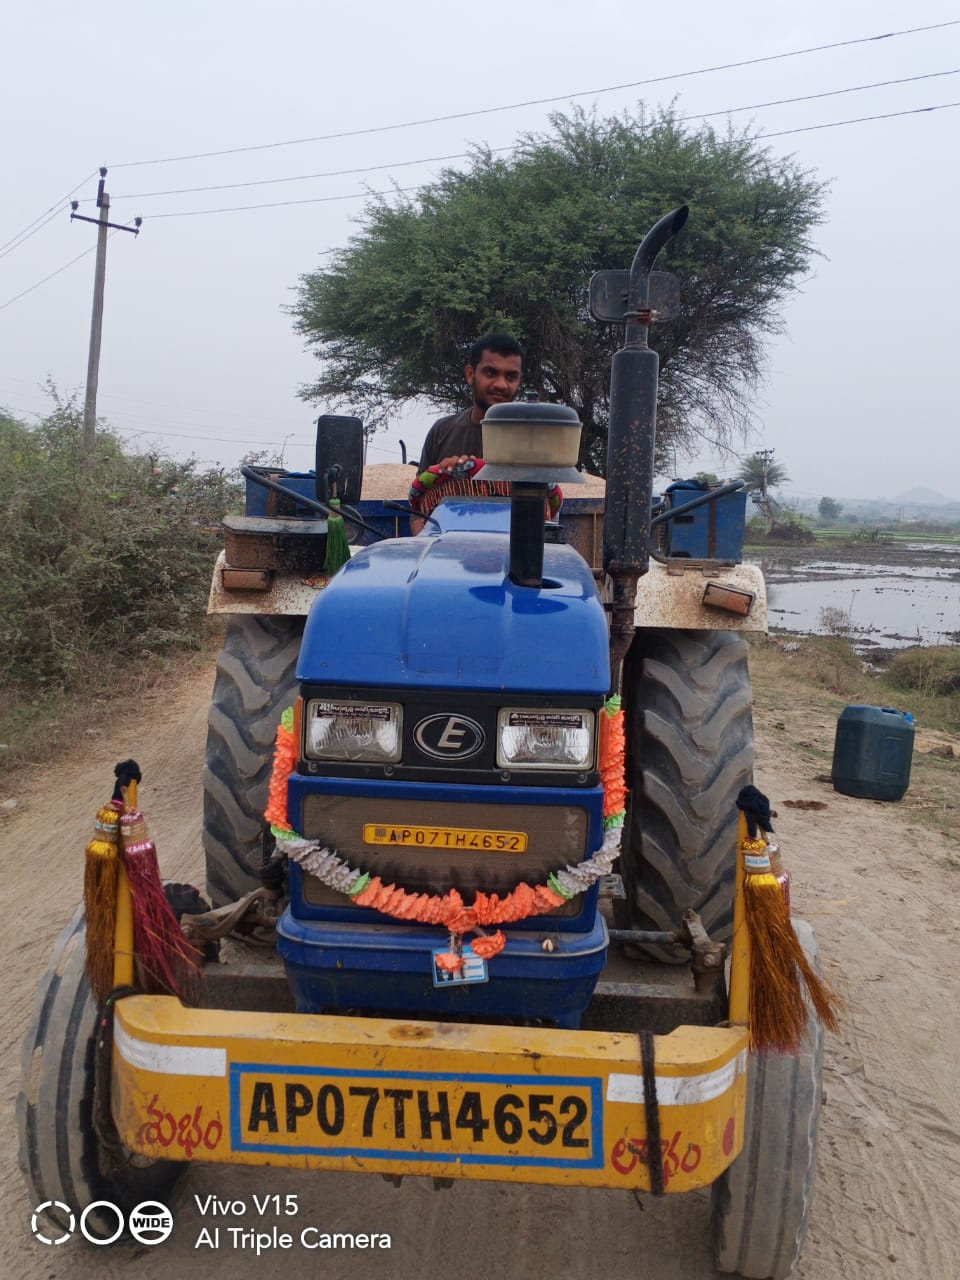license_plate: (226, 1055, 602, 1178)
